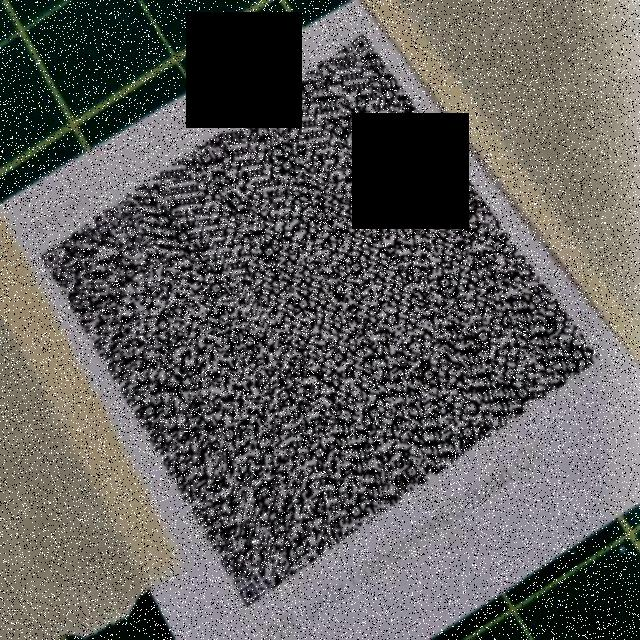QR_CODE: (24, 12, 612, 616)
